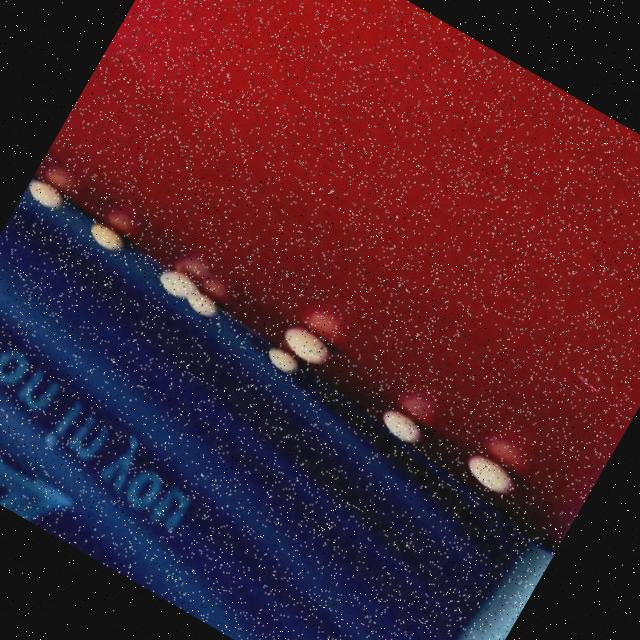ping-pong-ball: (446, 438, 526, 510), (266, 311, 347, 378), (246, 332, 316, 392), (143, 256, 209, 314), (366, 397, 432, 454), (169, 279, 230, 334), (20, 170, 74, 223), (78, 212, 132, 262)
